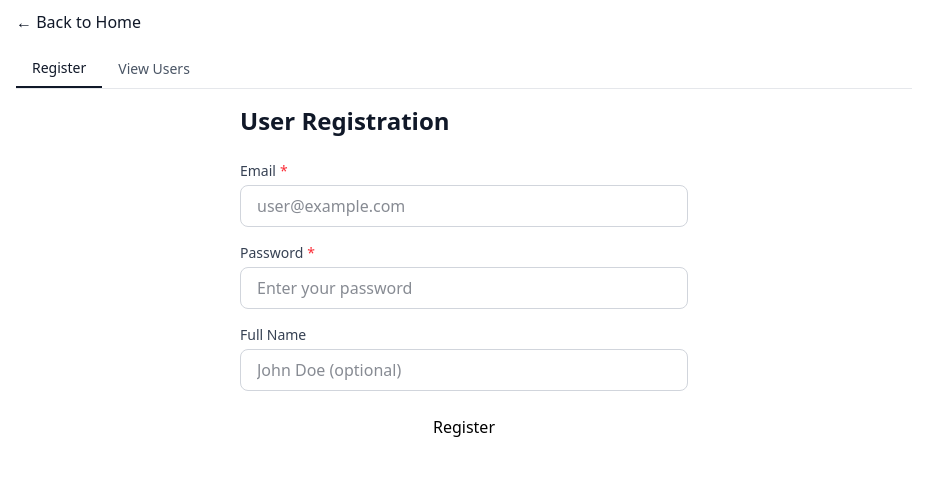
Test: Registration Page › shows errors on short password
Type "test@example.com" into the field labelled "Email*".
click(464, 206); type("test@example.com")  # box [240,185,688,227]
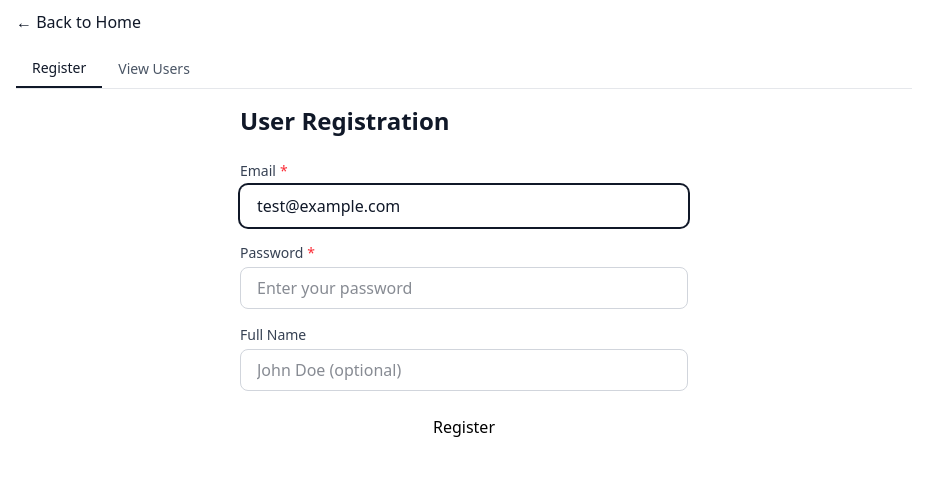
Type "12345" into the password field labelled "Password*".
click(464, 288); type("12345")  # box [240,267,688,309]
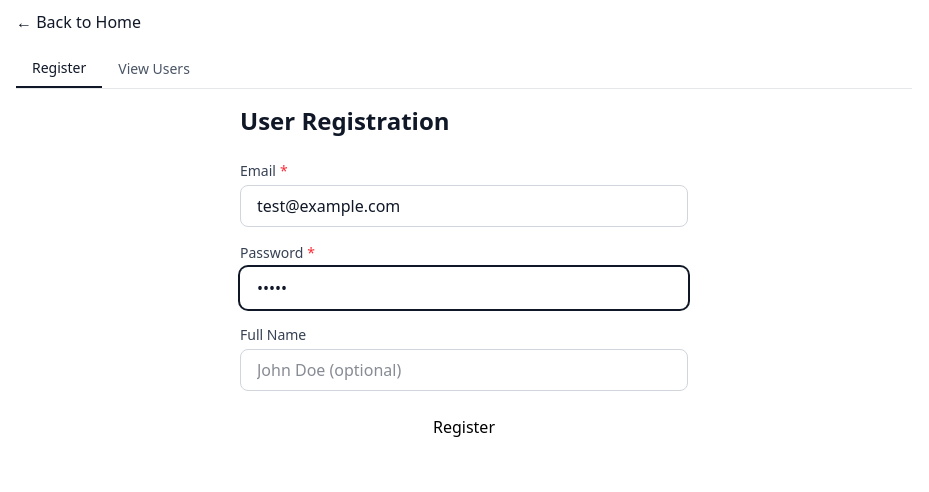
Click the button "Register".
click(464, 427)  # box [240,407,688,447]
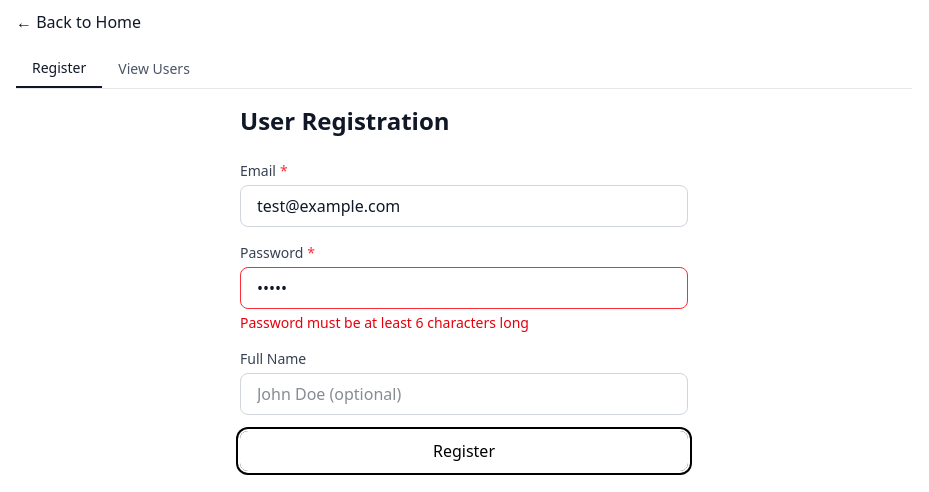
Check: the text "Password must be at least 6 characters long" is shown, box [240,313,529,332]
